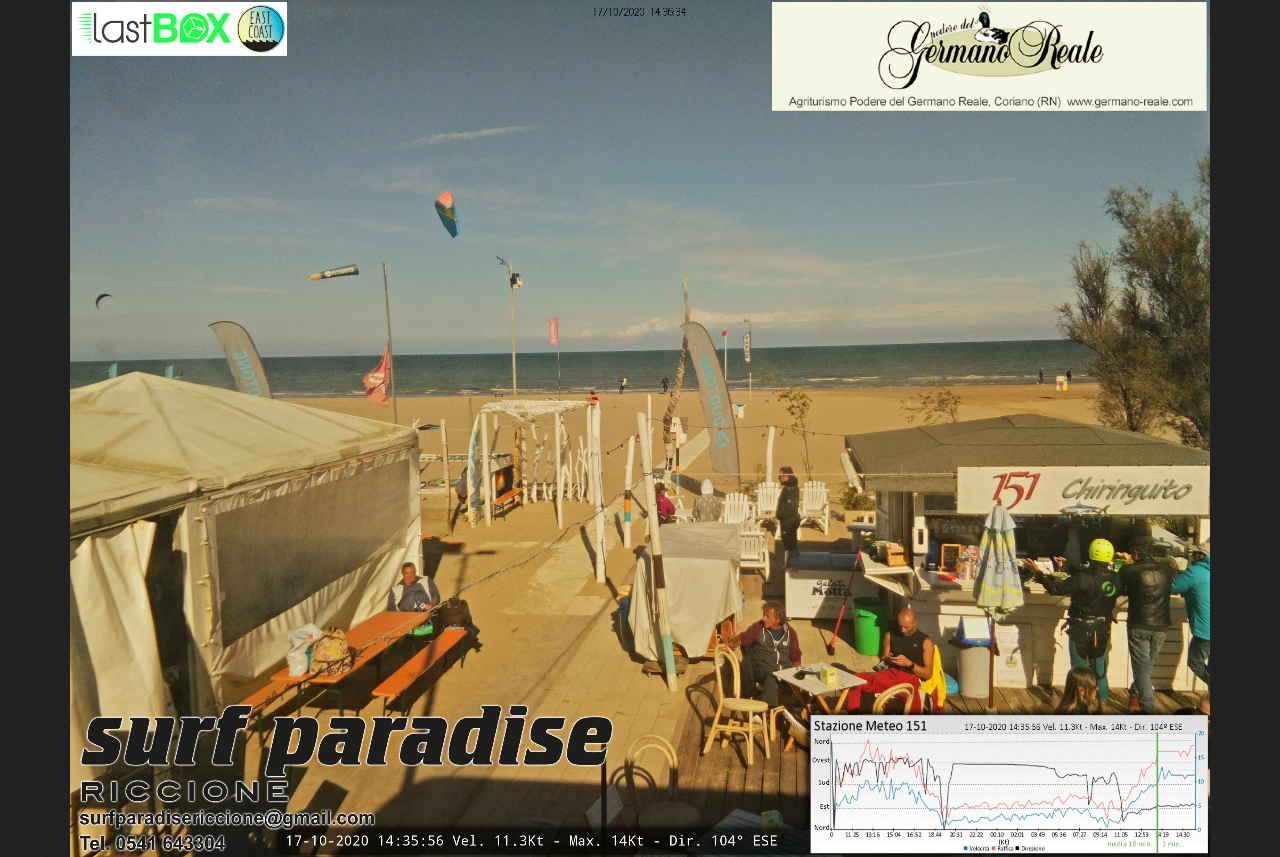maybe: (359, 350, 397, 409)
